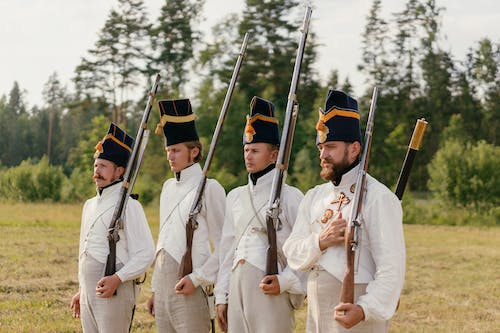gun: (172, 31, 251, 292), (94, 73, 162, 298), (264, 4, 314, 285), (335, 86, 379, 316)
